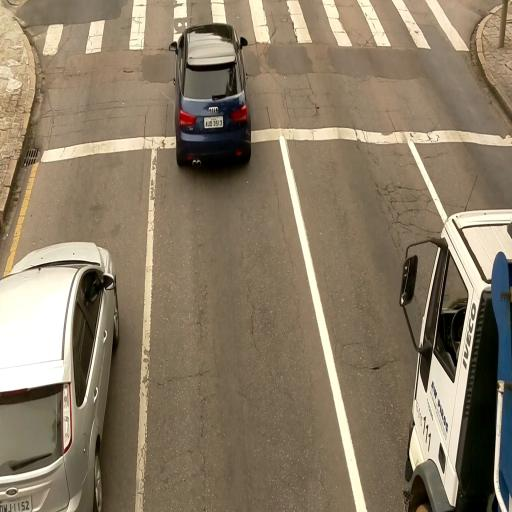car: (0, 242, 121, 508), (170, 22, 254, 170)
others: (400, 204, 511, 510)
